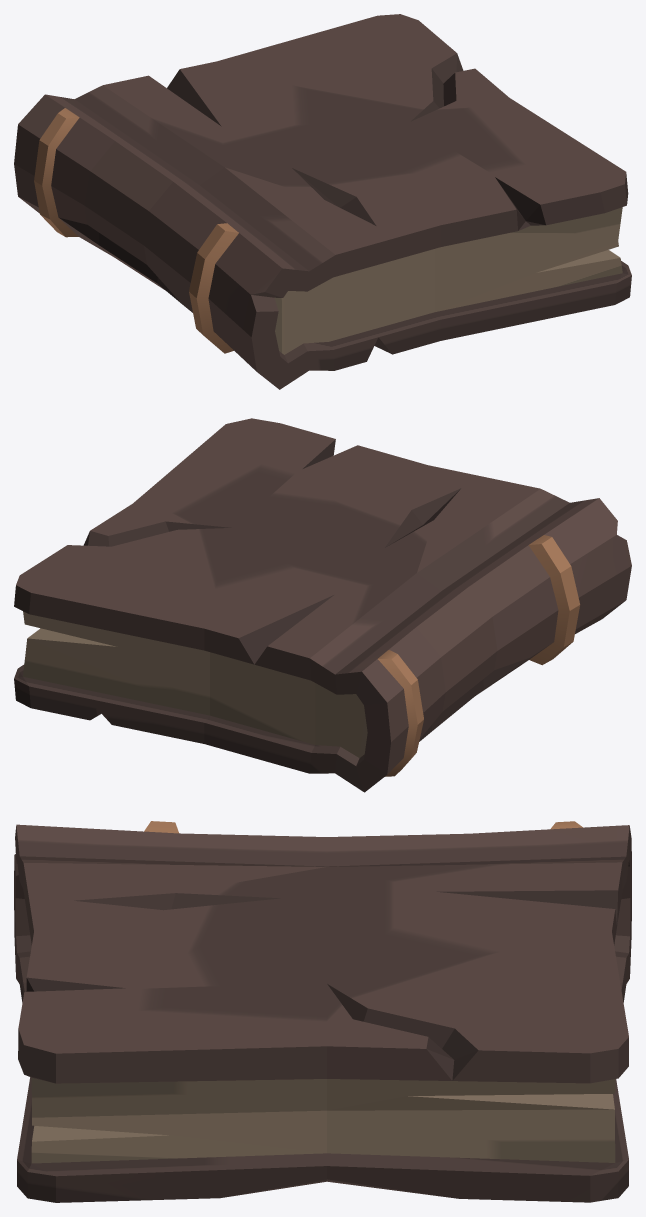
The model's file is crypt_book.gltf.
The picture shows the model from 3 angles, top to bottom: view 1: azimuth 30°, elevation 25°; view 2: azimuth 150°, elevation 25°; view 3: azimuth 270°, elevation 25°; orthographic projection. The views are drawn at different scales.
Visible parts, largest first — view 1: crypt_book; view 2: crypt_book; view 3: crypt_book.
Part boxes in pixels (x1=…): crypt_book: x1=14, y1=14, x2=631, y2=389; crypt_book: x1=14, y1=418, x2=631, y2=792; crypt_book: x1=14, y1=821, x2=631, y2=1202.
Bounding box in the file's own units: 0.2698 × 0.0801 × 0.2838.
1 material, 1 textured.
